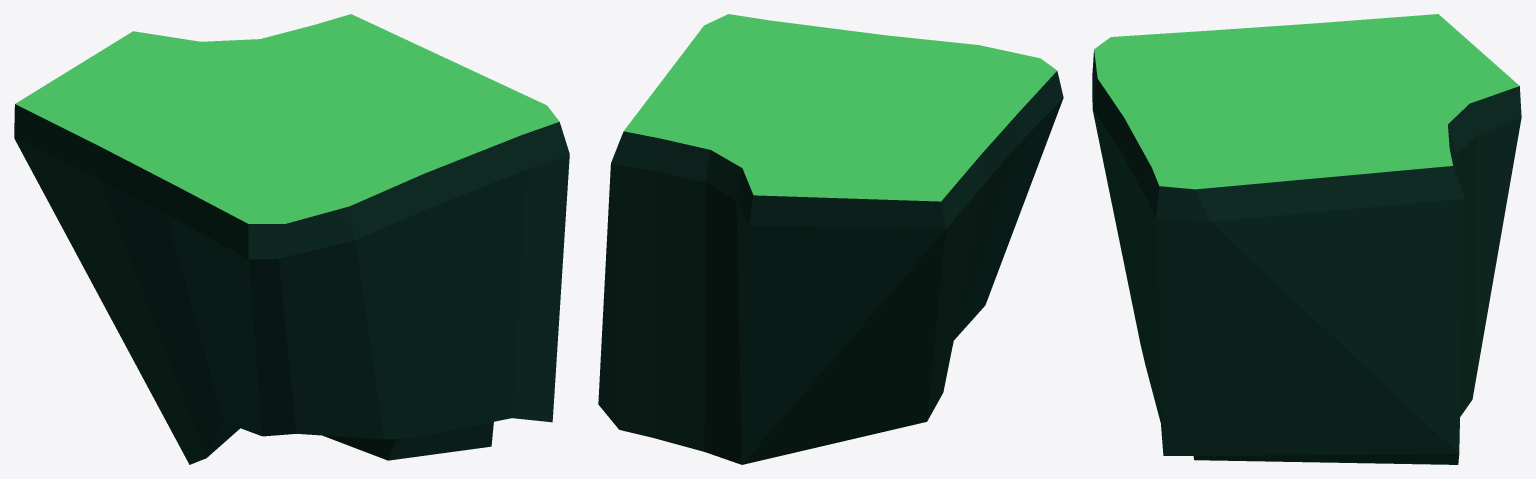
Rendered from Land_04_low.fbx.
The picture shows the model from 3 angles, left to right: view 1: azimuth 30°, elevation 25°; view 2: azimuth 150°, elevation 25°; view 3: azimuth 270°, elevation 25°; orthographic projection. The views are drawn at different scales.
Parts seen in each view (by area): view 1: Land_04_low; view 2: Land_04_low; view 3: Land_04_low.
Part boxes in pixels (x1=…): Land_04_low: x1=14, y1=14, x2=569, y2=464; Land_04_low: x1=598, y1=14, x2=1063, y2=464; Land_04_low: x1=1092, y1=14, x2=1521, y2=464.
Bounding box in the file's own units: 1628 × 1278 × 1643.
